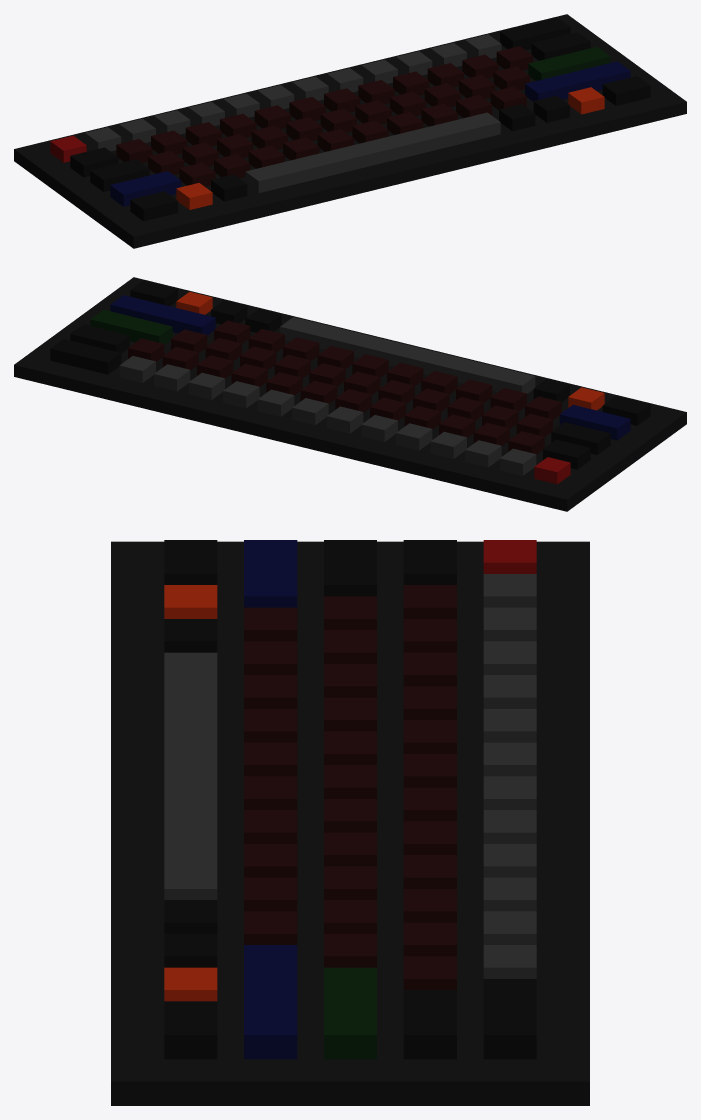
File: Keyboard.FBX
The picture shows the model from 3 angles, top to bottom: view 1: azimuth 30°, elevation 25°; view 2: azimuth 150°, elevation 25°; view 3: azimuth 270°, elevation 25°; orthographic projection. The views are drawn at different scales.
Parts seen in each view (by area): view 1: Monitor; view 2: Monitor; view 3: Monitor.
Boxes of the visible parts, <box> form: Monitor: <box>14,14,686,248</box>; Monitor: <box>14,277,686,511</box>; Monitor: <box>111,540,589,1105</box>.
Size of the model in its own units: 1515 by 63.14 by 568.
